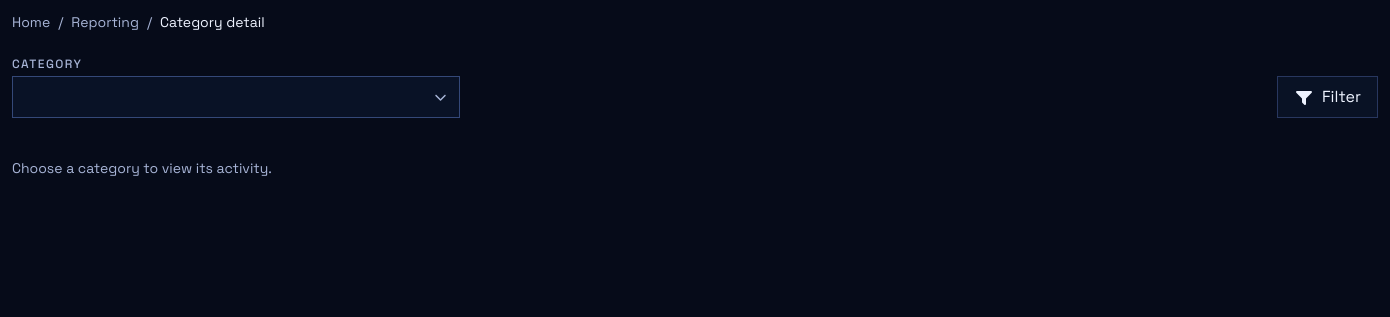
it: category detail reporting › shows all activity by default and supports compact month and year filters
Expected: the text "Filter:" is not shown
Click the button "Filter" at [1327, 97], box [1277,76,1378,118]
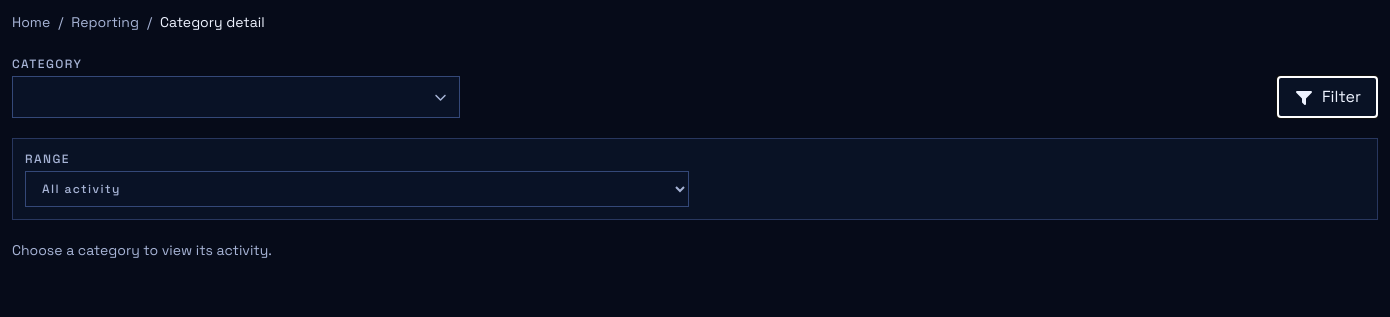
Expected: the field labelled "Month" is not shown
Result: the dropdown labelled "Range" shows "All activity"
Select "Month" in the dropdown labelled "Range" at [357, 189], box [25,171,689,207]
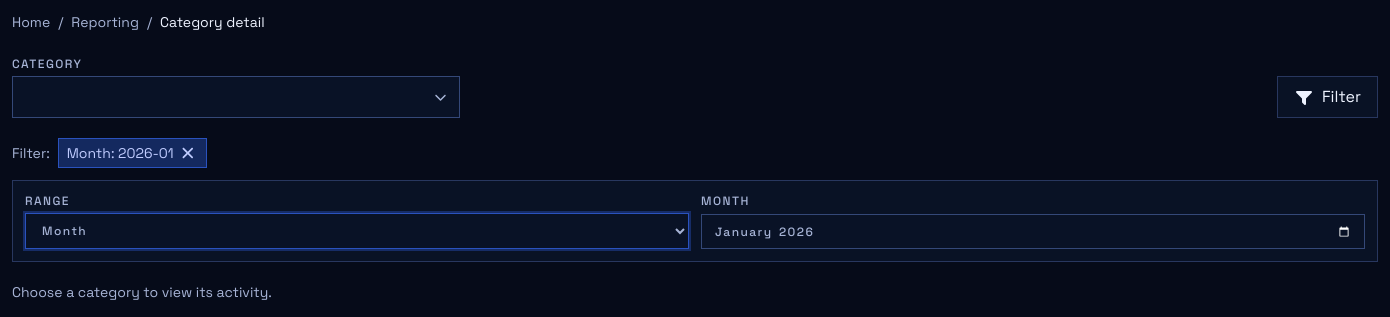
Result: the field labelled "Month" holds "2026-01" at [701,214,1365,249]
Select "Year" in the dropdown labelled "Range" at [357, 231], box [25,213,689,249]
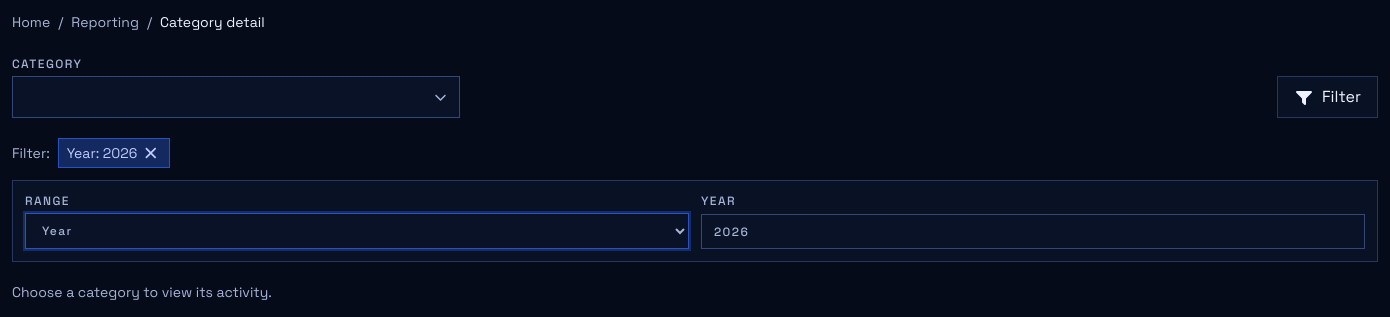
Result: the number field labelled "Year" holds "2026" at [701,214,1365,249]
